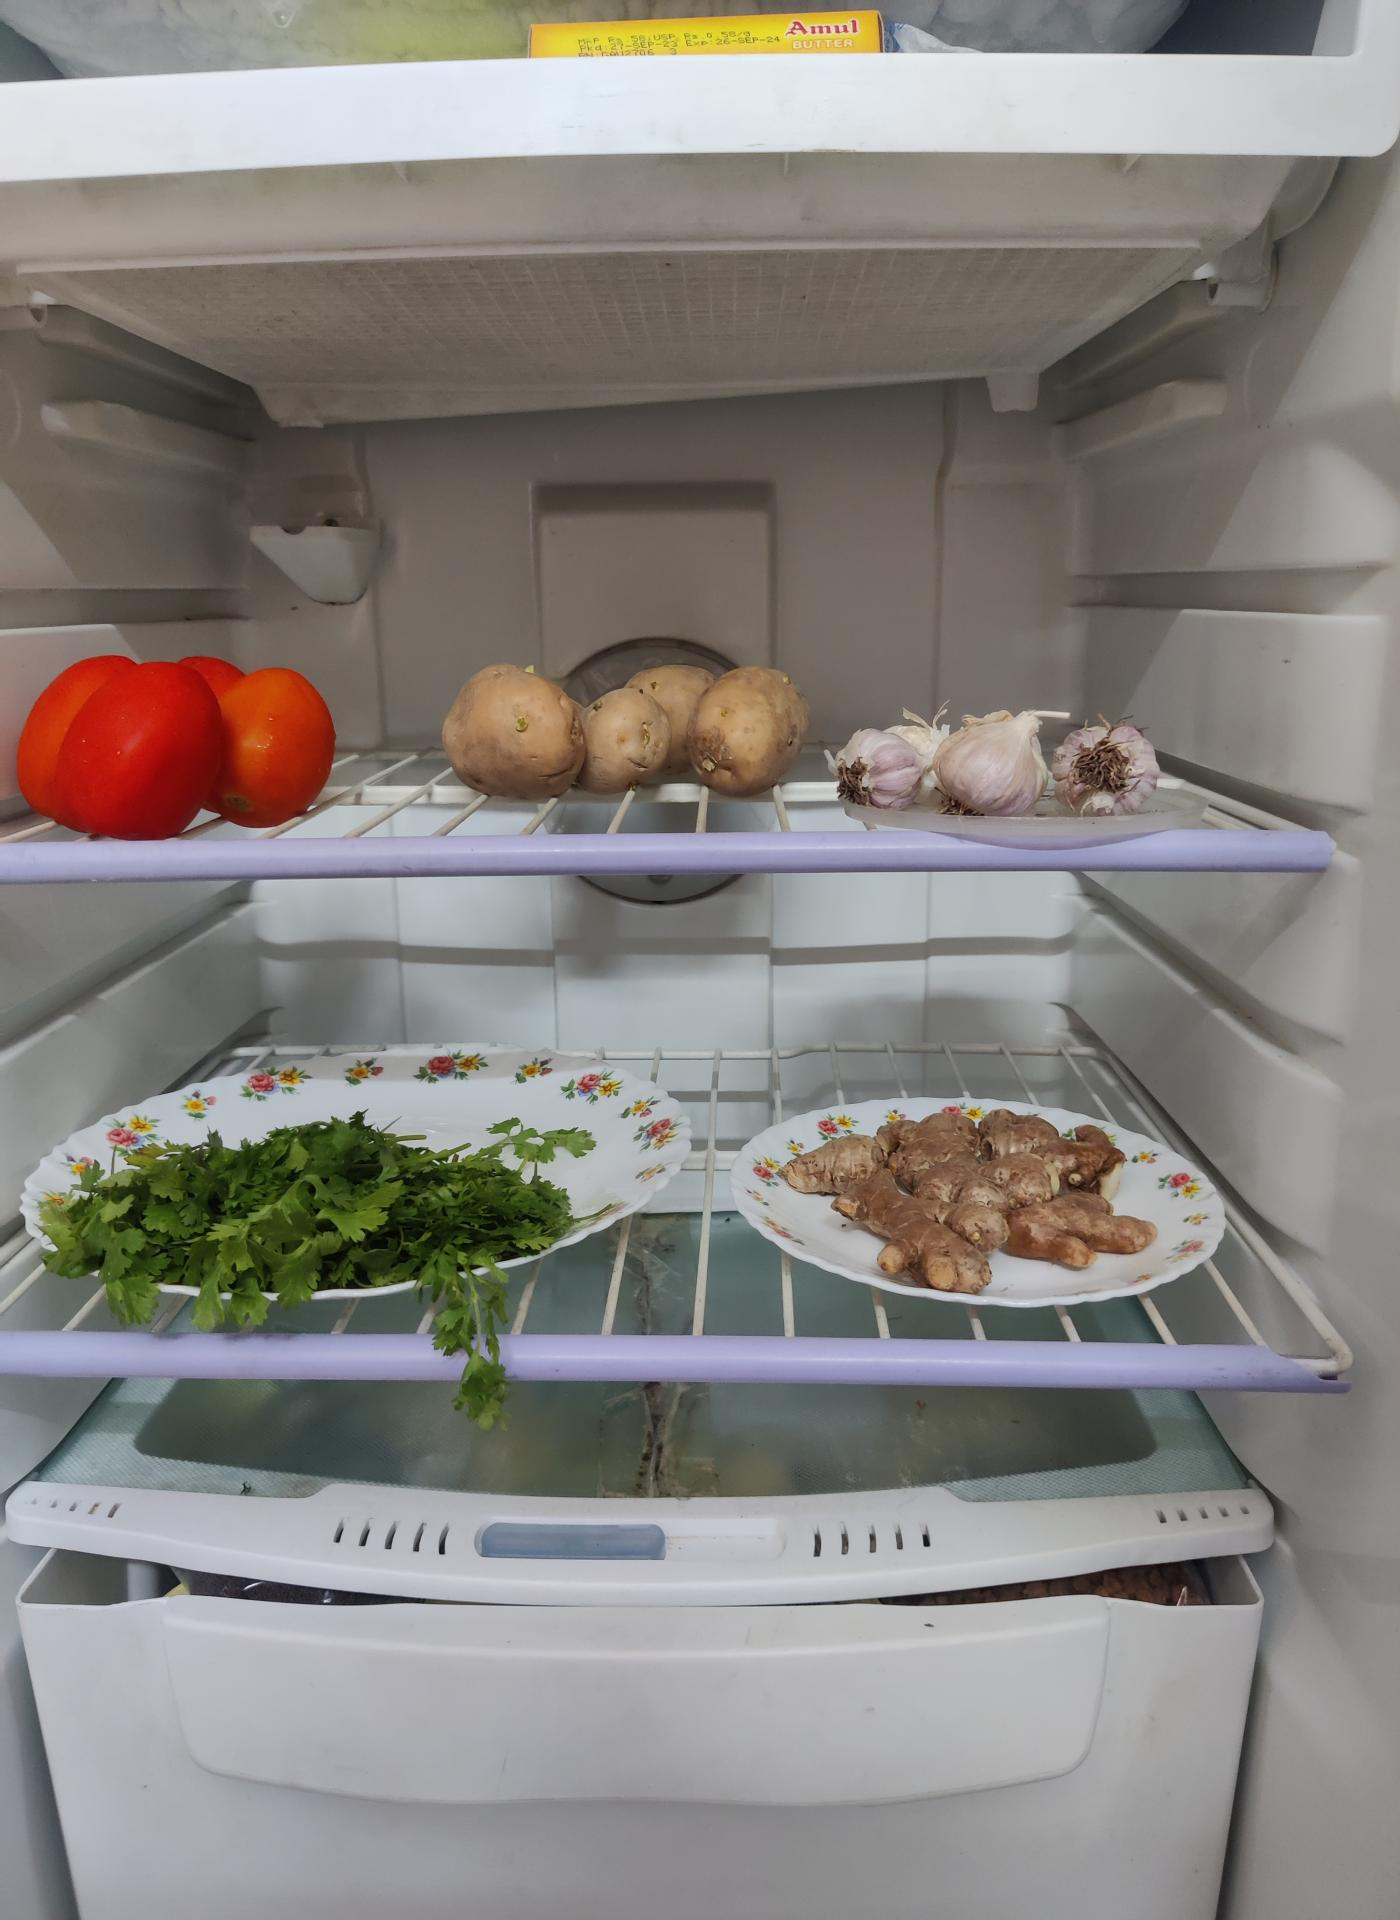coriander: (34, 1127, 577, 1327)
garlic: (833, 708, 1153, 820)
ginger: (762, 1114, 1136, 1292)
potato: (437, 648, 808, 792)
tomato: (18, 657, 340, 841)
